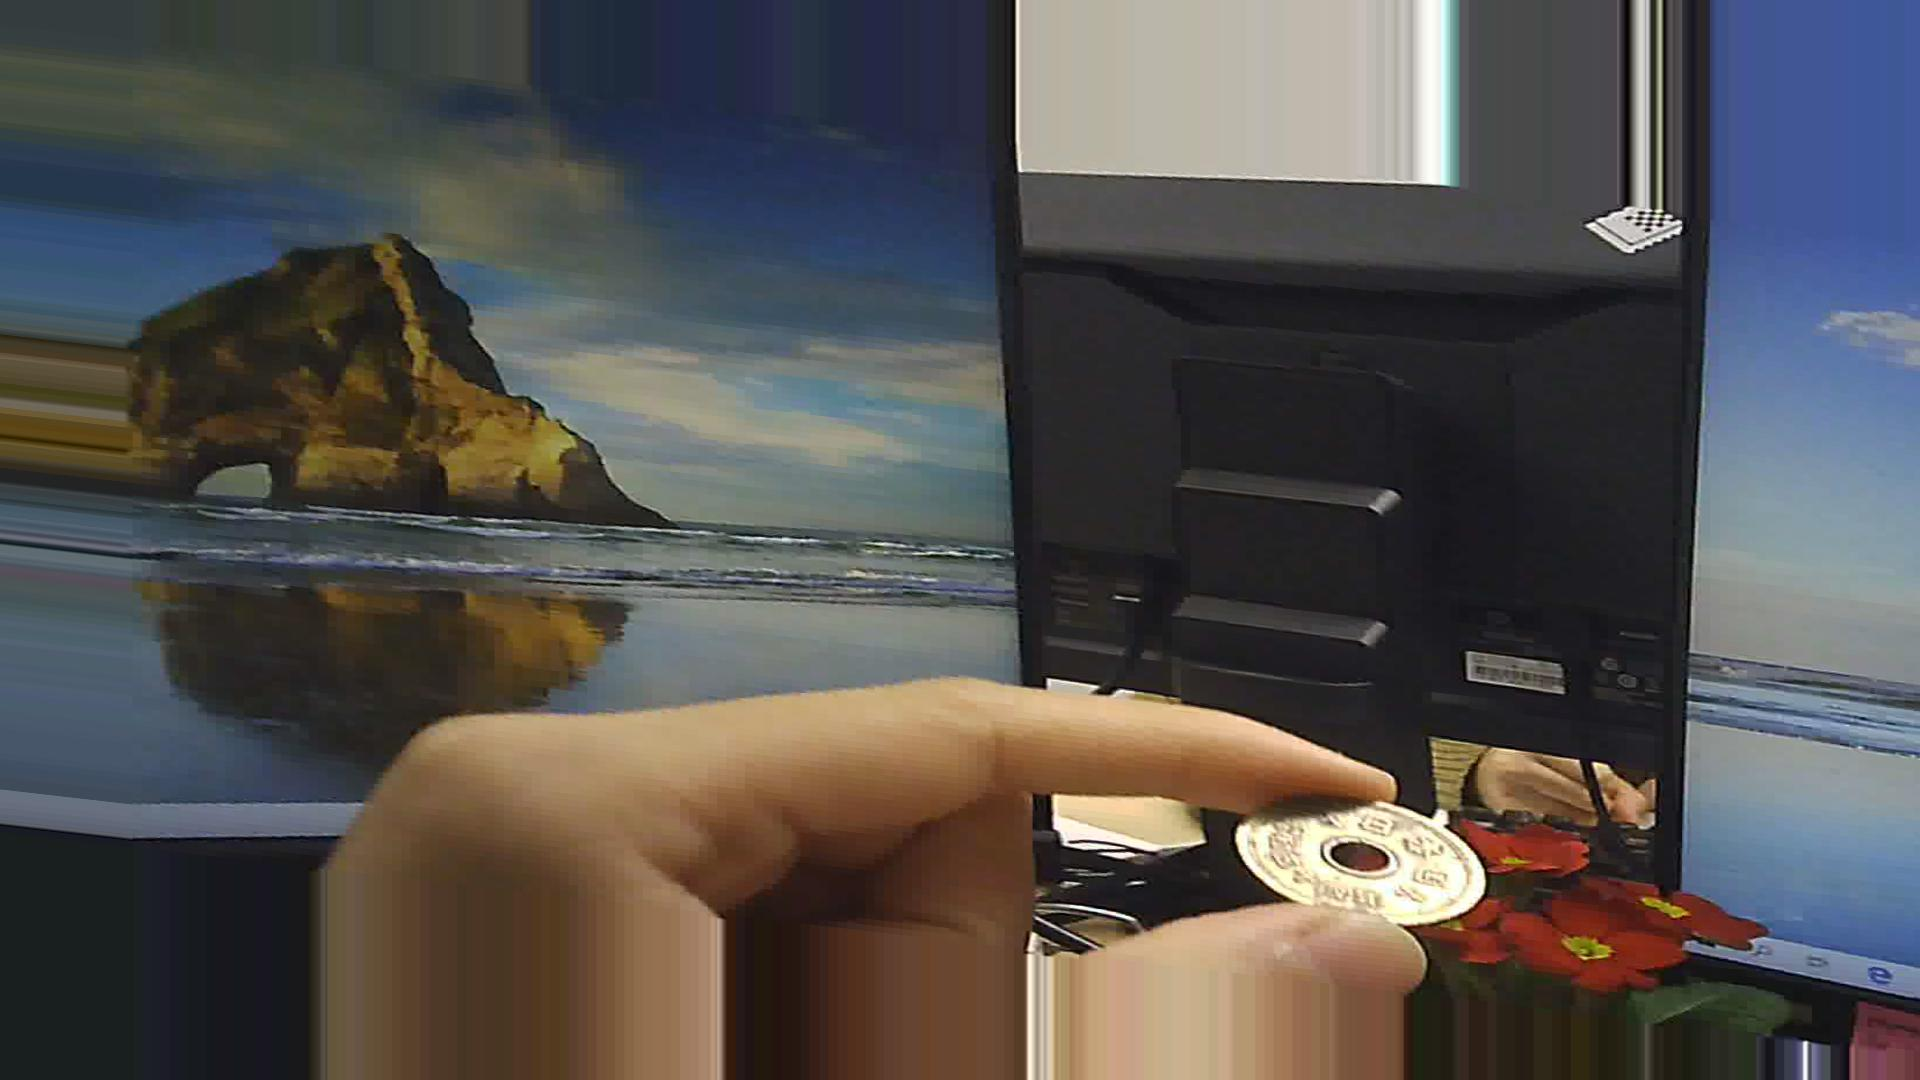5 Yen: (1230, 771, 1476, 930)
